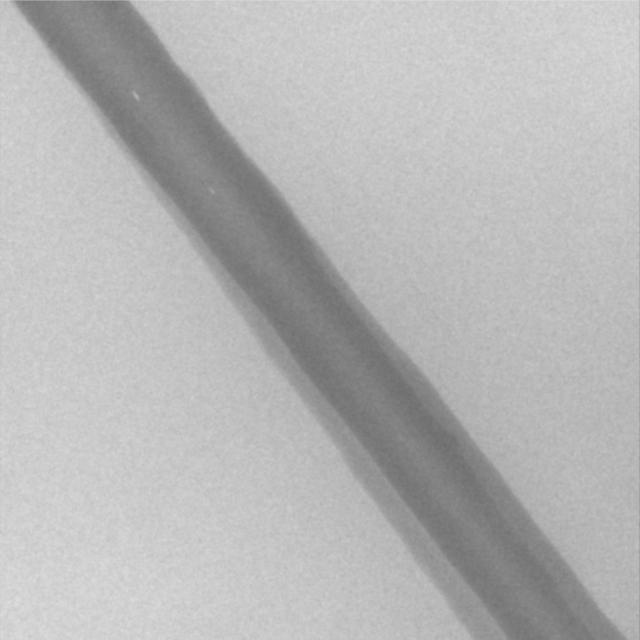air hole: (130, 90, 140, 102)
